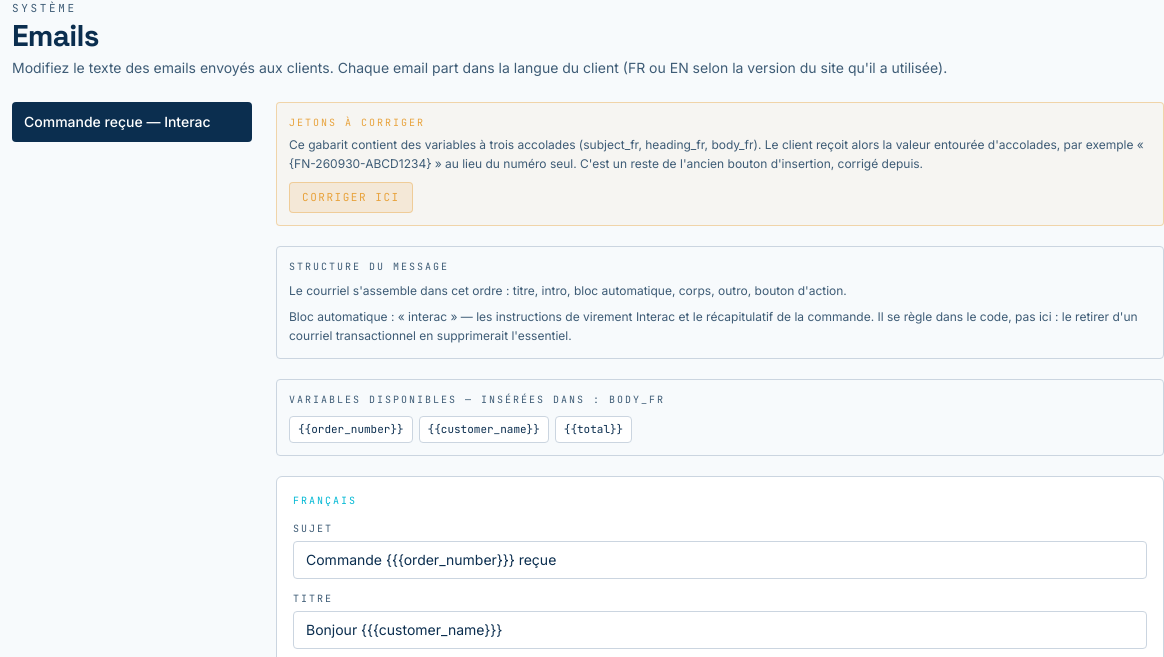
Test: « Corriger ici » remet deux accolades partout
What coordinates should you click on to do the following:
click the button with test id "email-reparer-jetons"
I would click on:
 (351, 197)
Its box is [289,182,413,213].
(page scrolled)
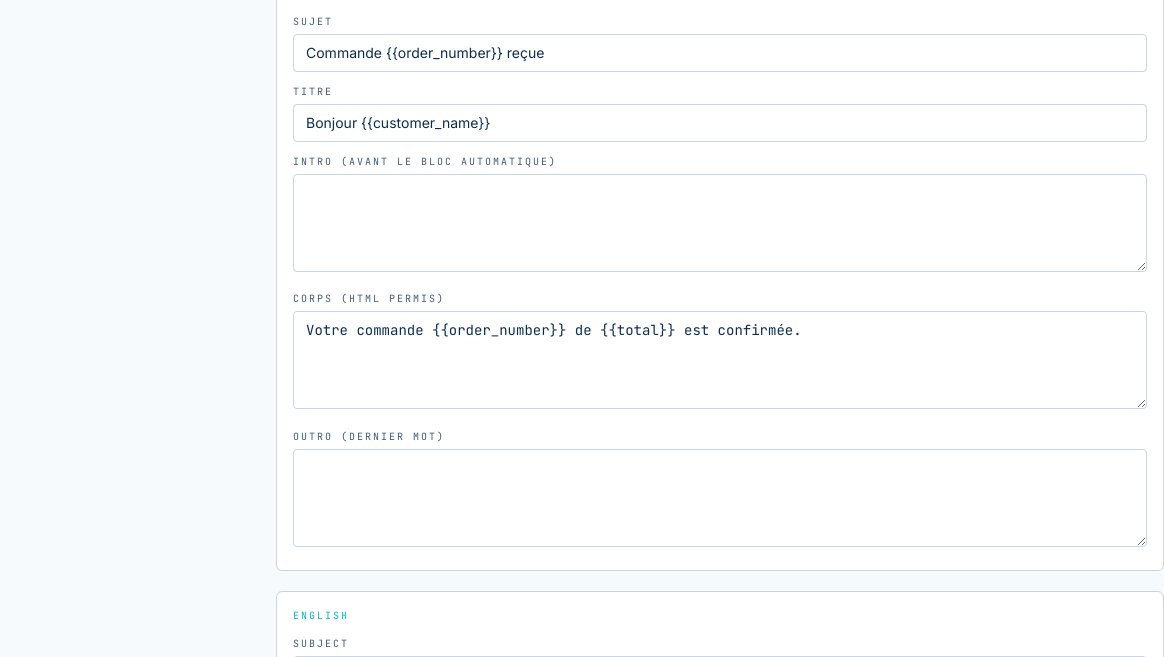
Expected: the text box with test id "email-body-fr" holds "Votre commande {{order_number}} de {{total}} est confirmée.", [293,311,1147,409]
